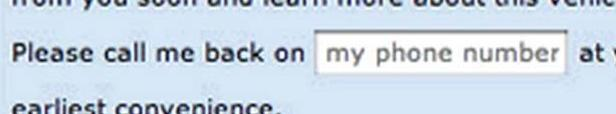field: (303, 28, 569, 77)
field_with_label: (14, 25, 574, 81)
